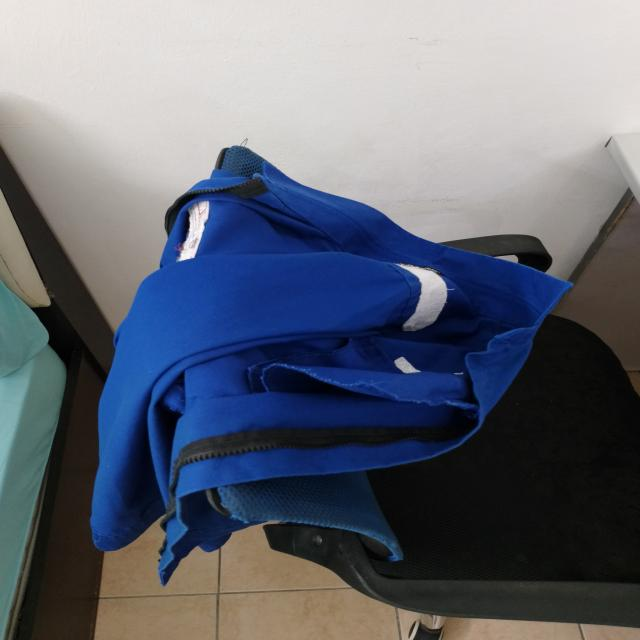person_without_labcoat: (90, 153, 571, 585)
